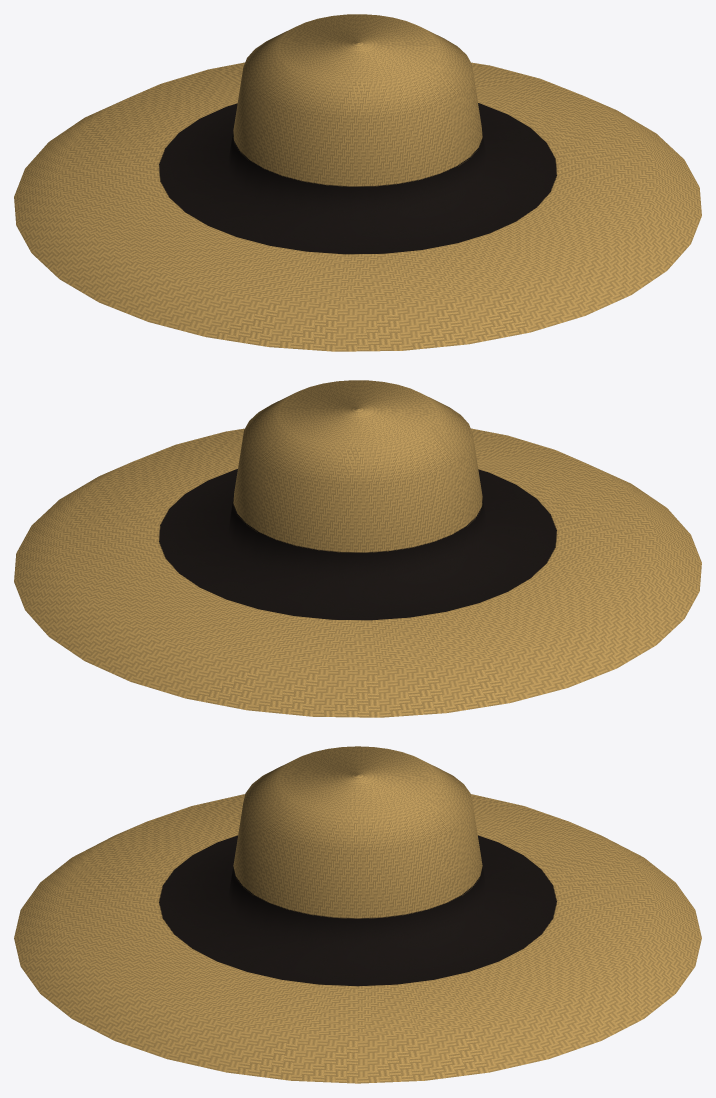
File: sombrero_palma.obj
3 renders of one model, top to bottom at view 1: azimuth 30°, elevation 25°; view 2: azimuth 150°, elevation 25°; view 3: azimuth 270°, elevation 25°, orthographic.
Parts seen in each view (by area): view 1: sombrero_palma; view 2: sombrero_palma; view 3: sombrero_palma.
Boxes of the visible parts, left/top/right/bottom form: sombrero_palma: left=14, top=14, right=701, bottom=351; sombrero_palma: left=14, top=380, right=701, bottom=717; sombrero_palma: left=14, top=746, right=701, bottom=1083.
Bounding box in the file's own units: 0.69 × 0.18 × 0.69.
1 material, 1 textured.
